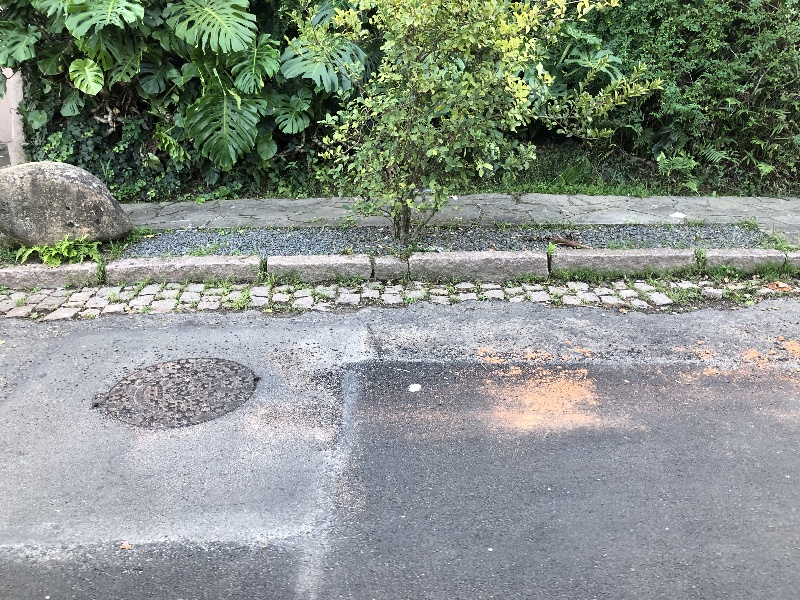v73: (1, 223, 792, 328)
